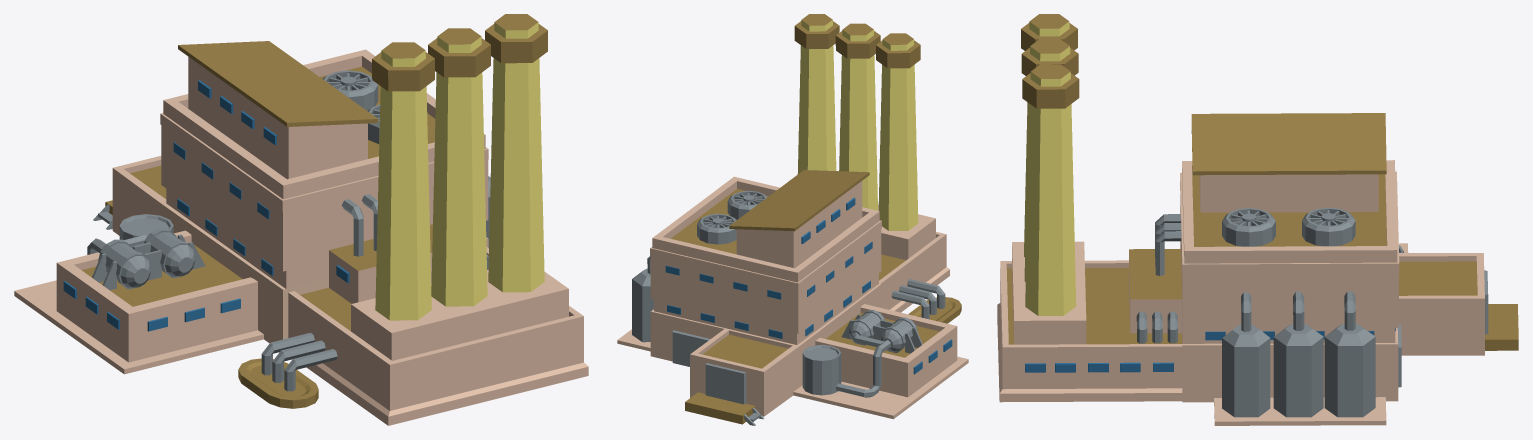
The model's file is FactoryAir_3.fbx.
3 views of the same model, side by side, from view 1: azimuth 30°, elevation 25°; view 2: azimuth 150°, elevation 25°; view 3: azimuth 270°, elevation 25° (orthographic). The views are drawn at different scales.
Parts seen in each view (by area): view 1: factory 3.001; view 2: factory 3.001; view 3: factory 3.001.
Part boxes in pixels (bbox=[...]): factory 3.001: bbox=[14, 14, 588, 425]; factory 3.001: bbox=[617, 14, 968, 425]; factory 3.001: bbox=[997, 14, 1518, 425].
Bounding box in the file's own units: 814 × 665 × 1009.
